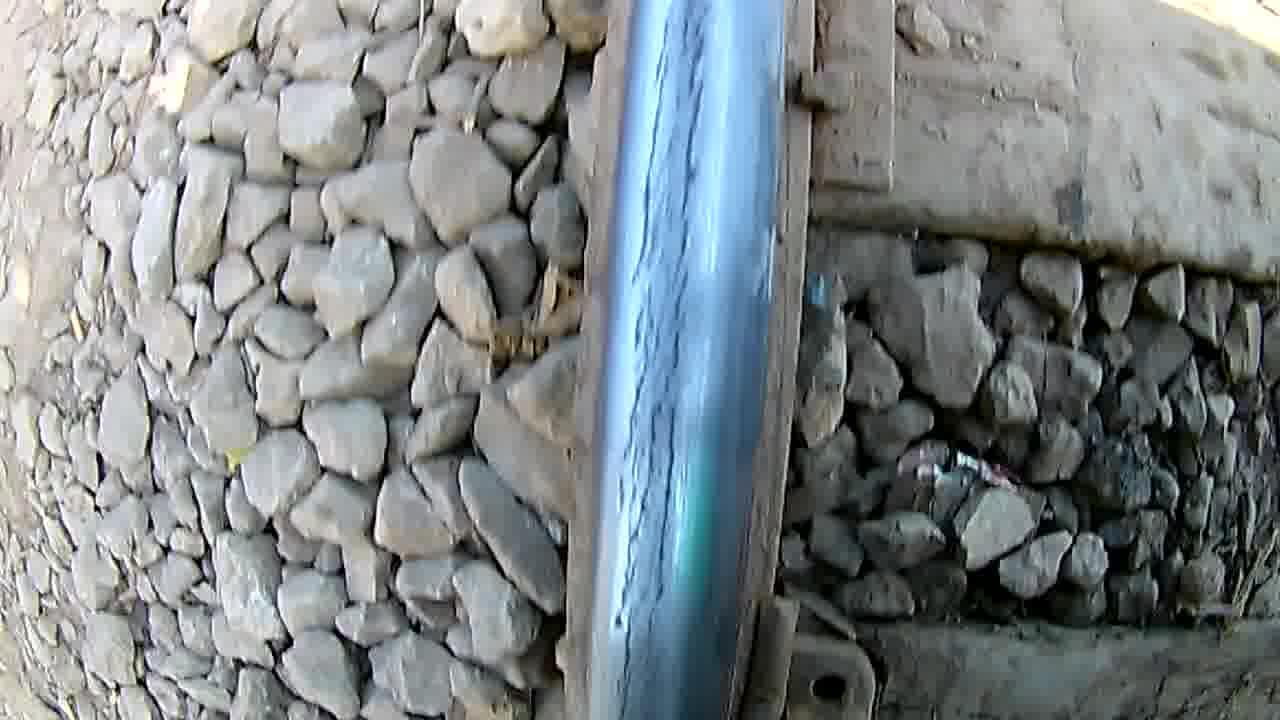normal_track: (606, 5, 720, 720)
